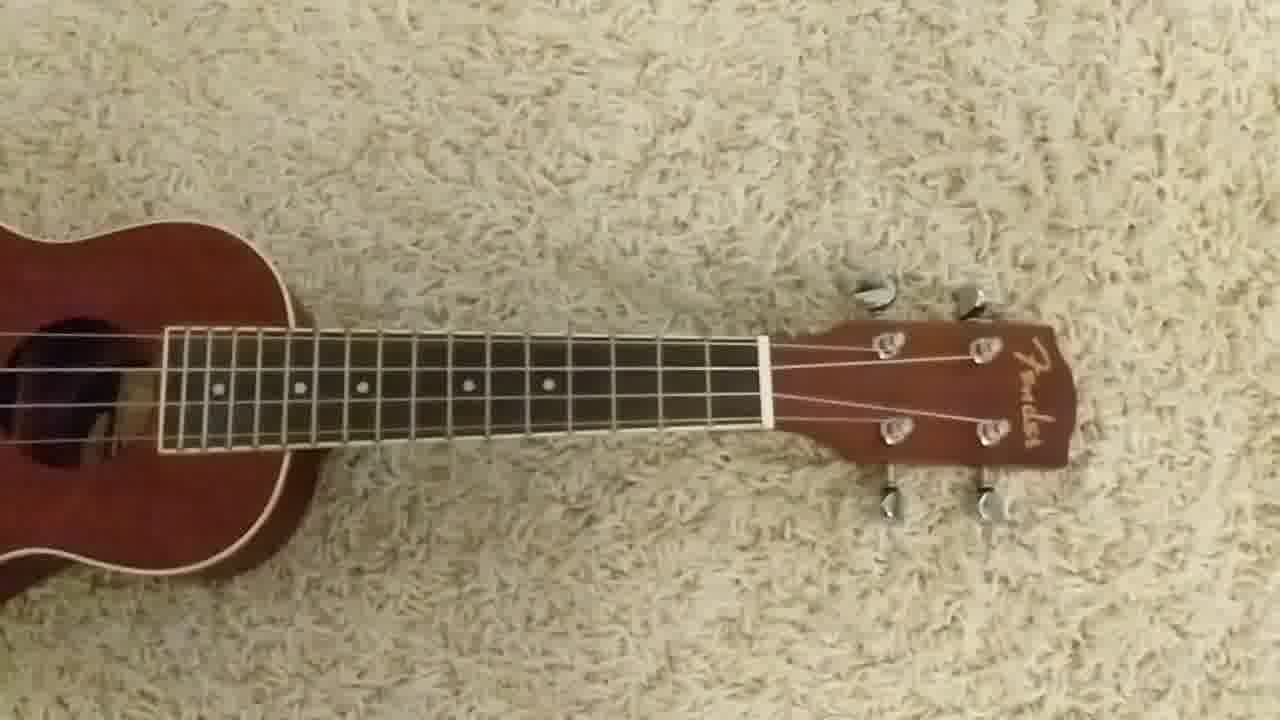Body: (1, 213, 323, 600)
Headstock: (774, 274, 1082, 522)
